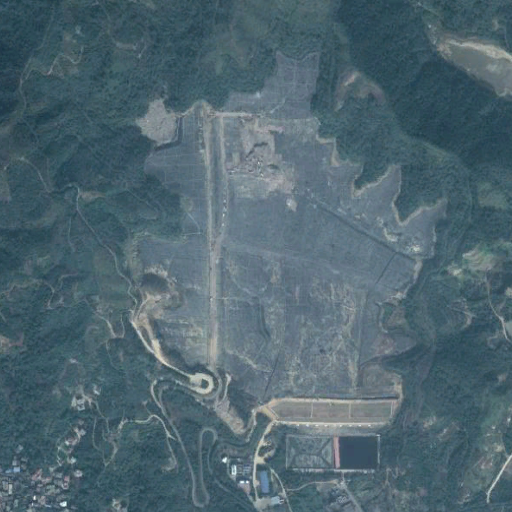lf: (129, 50, 447, 394)
